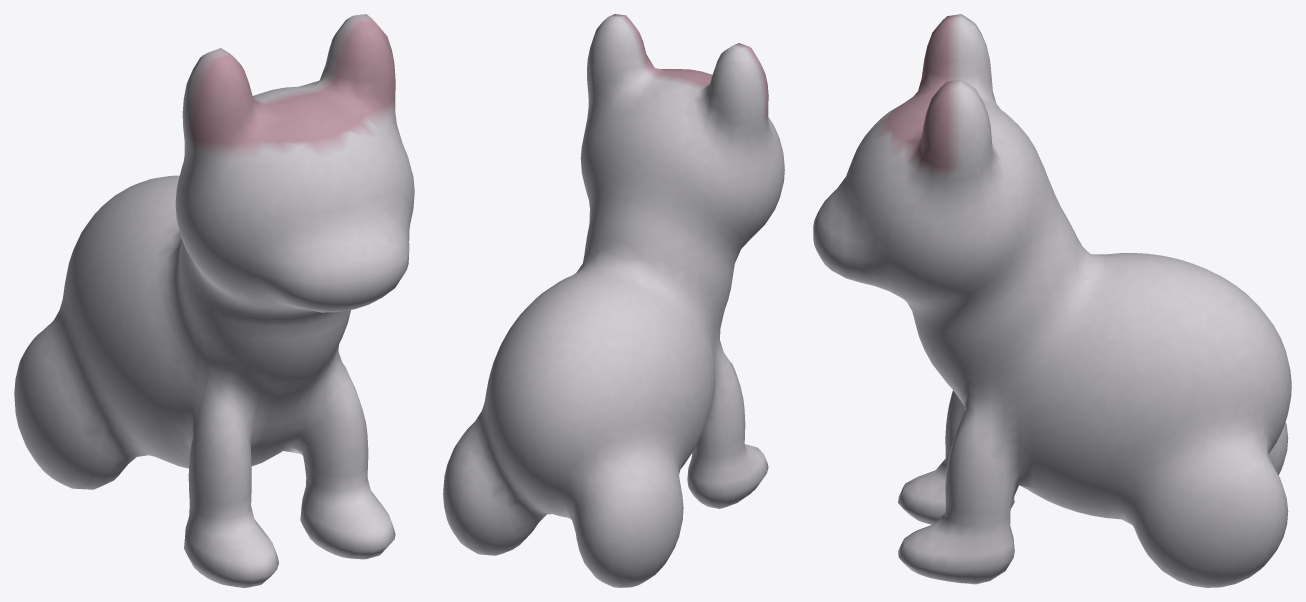
The model's file is kitty.glb.
The picture shows the model from 3 angles, left to right: view 1: azimuth 30°, elevation 25°; view 2: azimuth 150°, elevation 25°; view 3: azimuth 270°, elevation 25°; orthographic projection. The views are drawn at different scales.
Size of the model in its own units: 0.7795 by 1.58 by 1.36.
